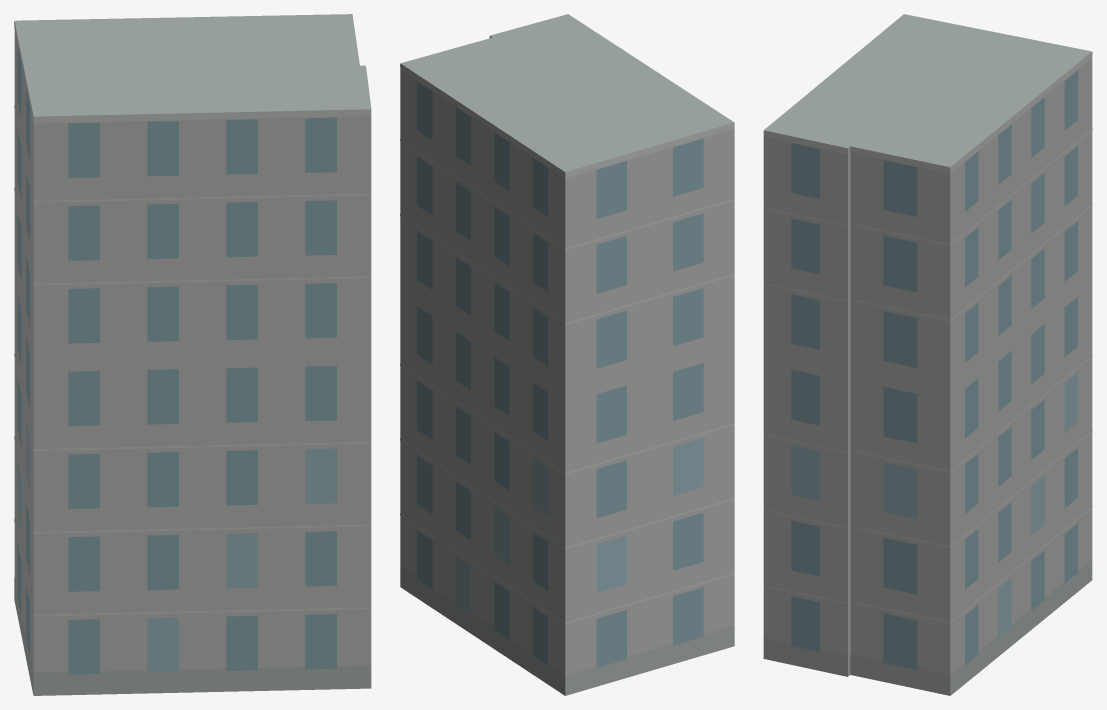
The model's file is survey-upis-32531957.glb.
3 views of the same model, side by side, from view 1: azimuth 30°, elevation 25°; view 2: azimuth 150°, elevation 25°; view 3: azimuth 270°, elevation 25° (orthographic). The views are drawn at different scales.
Parts seen in each view (by area): view 1: survey-upis-32531957.tmp; view 2: survey-upis-32531957.tmp; view 3: survey-upis-32531957.tmp.
Boxes of the visible parts, x1,y1,x2,y2 form: survey-upis-32531957.tmp: (14, 14, 371, 695); survey-upis-32531957.tmp: (400, 14, 734, 695); survey-upis-32531957.tmp: (763, 14, 1092, 695).
Size of the model in its own units: 12.71 by 20.4 by 11.52.
